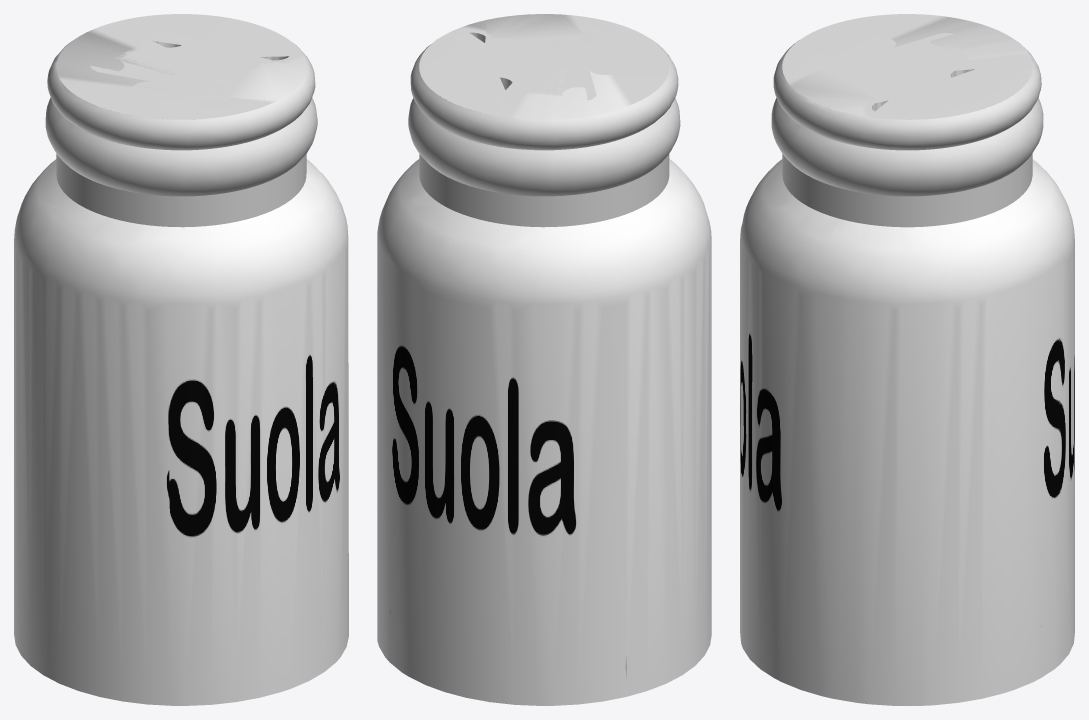
The model's file is suola_saker.fbx.
The picture shows the model from 3 angles, left to right: view 1: azimuth 30°, elevation 25°; view 2: azimuth 150°, elevation 25°; view 3: azimuth 270°, elevation 25°; orthographic projection.
Visible parts, largest first — view 1: Suolapurkki; view 2: Suolapurkki; view 3: Suolapurkki.
Boxes of the visible parts, left/top/right/bottom form: Suolapurkki: left=14, top=14, right=348, bottom=705; Suolapurkki: left=377, top=14, right=711, bottom=705; Suolapurkki: left=740, top=14, right=1074, bottom=705.
Size of the model in its own units: 3178 by 5967 by 3185.
Materials: 2 (1 with a texture image).
